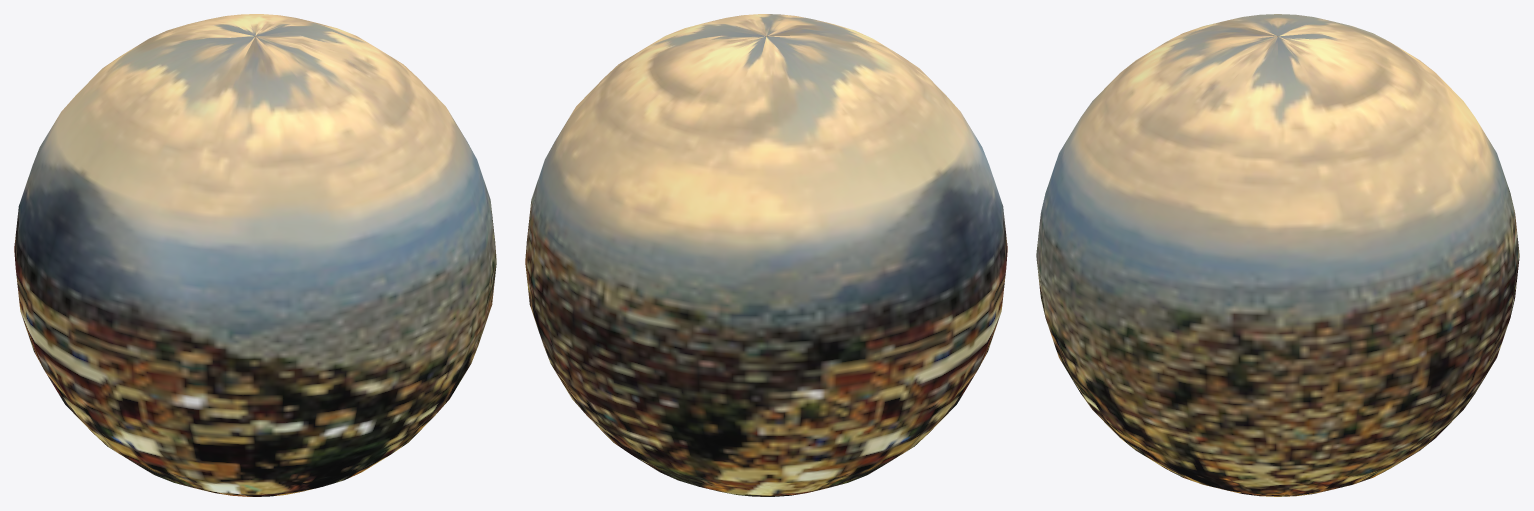
The model's file is central.glb.
3 renders of one model, left to right at view 1: azimuth 30°, elevation 25°; view 2: azimuth 150°, elevation 25°; view 3: azimuth 270°, elevation 25°, orthographic.
Visible parts, largest first — view 1: Sphere_360 Plane_0; view 2: Sphere_360 Plane_0; view 3: Sphere_360 Plane_0.
Boxes of the visible parts, x1,y1,x2,y2 form: Sphere_360 Plane_0: (14,14,496,496); Sphere_360 Plane_0: (525,14,1007,496); Sphere_360 Plane_0: (1036,14,1519,496).
Bounding box in the file's own units: 576 × 576 × 576.
Materials: 41 (41 with a texture image).
